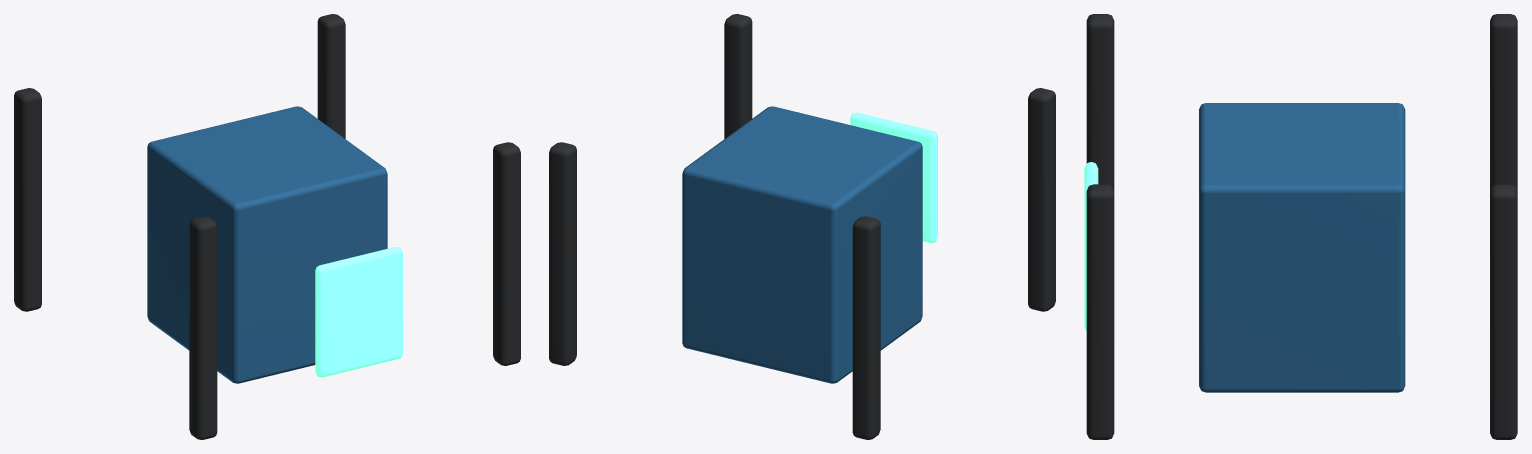
The model's file is scrap-container.glb.
The picture shows the model from 3 angles, left to right: view 1: azimuth 30°, elevation 25°; view 2: azimuth 150°, elevation 25°; view 3: azimuth 270°, elevation 25°; orthographic projection. The views are drawn at different scales.
Parts seen in each view (by area): view 1: scrap-container; view 2: scrap-container; view 3: scrap-container.
Part boxes in pixels (x1,y1,x2,y2): scrap-container: (14,14,520,439); scrap-container: (549,14,1055,439); scrap-container: (1084,14,1517,439).
Size of the model in its own units: 0.94 by 0.6 by 0.945.
